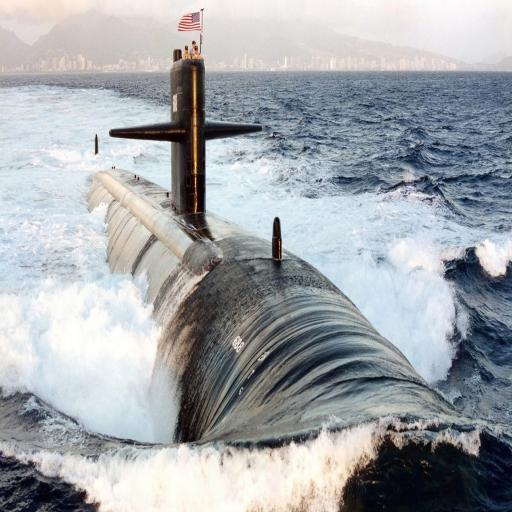submarine: (79, 7, 481, 465)
